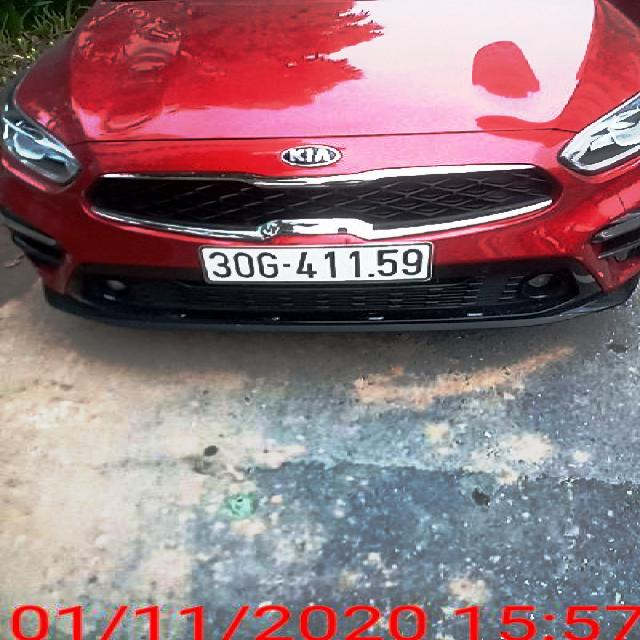license_plate: (202, 245, 430, 283)
